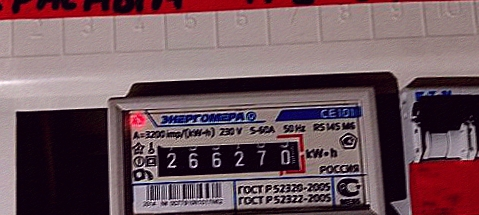0: (279, 148, 291, 166)
2: (164, 151, 177, 170), (233, 149, 244, 168)
6: (187, 151, 199, 170), (210, 151, 222, 170)
7: (256, 148, 267, 167)
screen: (146, 131, 311, 186)
